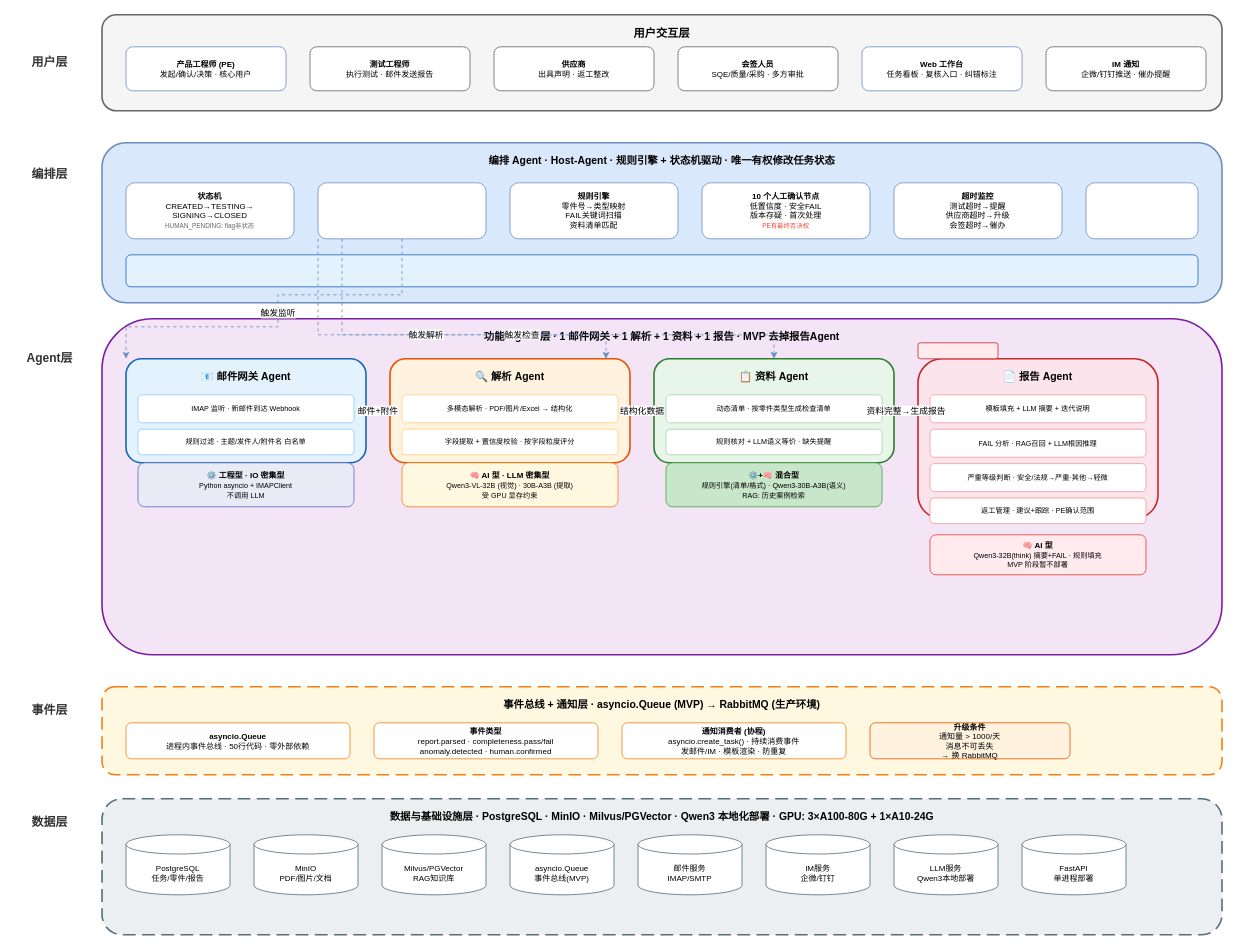
Some shapes in this 1236 by 949 pixel diagram are drawn without their labels. Here are the shapes that lost their labels. From the top down, the centre of each, then its label:
pixel 401 210: 路由决策表 事件 + 当前状态 → 下一状态 + 触发动作 不用 LLM
pixel 1141 210: 上下文包 task_id part_info state/events confidence
pixel 661 270: Agent 间通信协议：事件驱动 · 只有编排 Agent 有权改状态 · 功能 Agent 只产出数据和事件
pixel 957 350: MVP 暂缺
